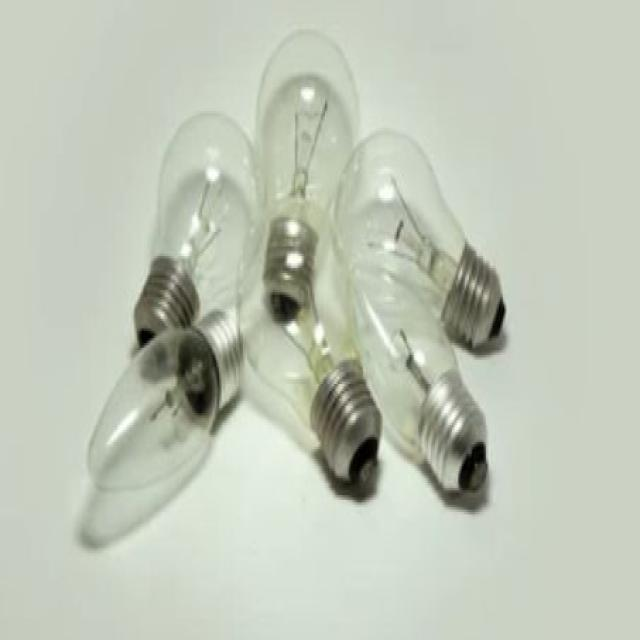electronic: (76, 24, 507, 551), (76, 106, 263, 548), (239, 24, 381, 490), (328, 126, 507, 495), (76, 304, 245, 548), (132, 109, 262, 345)
